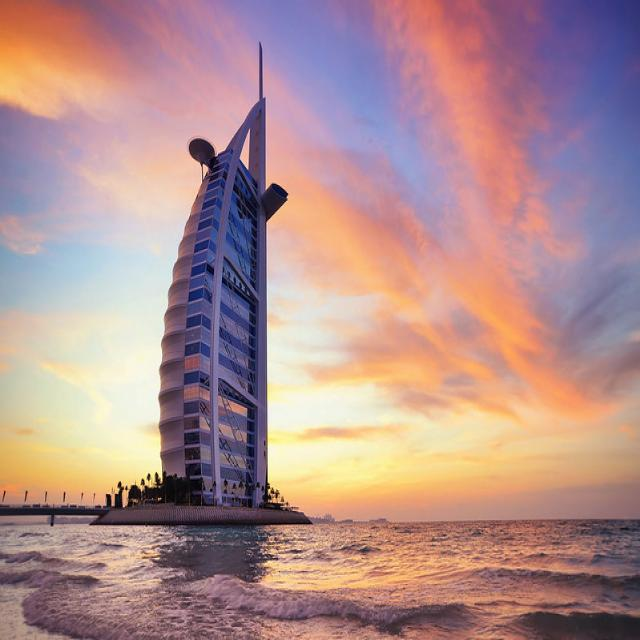Normal_building: (152, 84, 282, 512)
